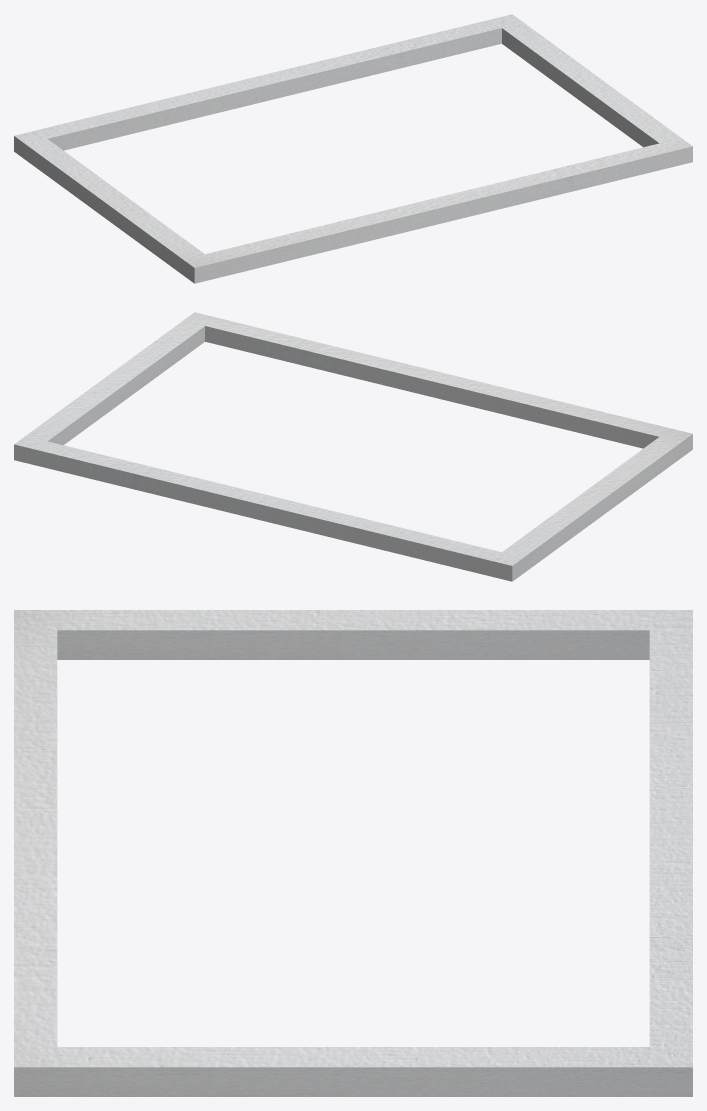
The model's file is hatchframe.glb.
The picture shows the model from 3 angles, top to bottom: view 1: azimuth 30°, elevation 25°; view 2: azimuth 150°, elevation 25°; view 3: azimuth 270°, elevation 25°; orthographic projection. The views are drawn at different scales.
Visible parts, largest first — view 1: Cube.001; view 2: Cube.001; view 3: Cube.001.
Part boxes in pixels (<box>): Cube.001: <box>14,14,692,283</box>; Cube.001: <box>14,312,692,581</box>; Cube.001: <box>14,610,692,1096</box>.
Size of the model in its own units: 2.38 by 0.0718 by 1.49.
Materials: 1 (1 with a texture image).
